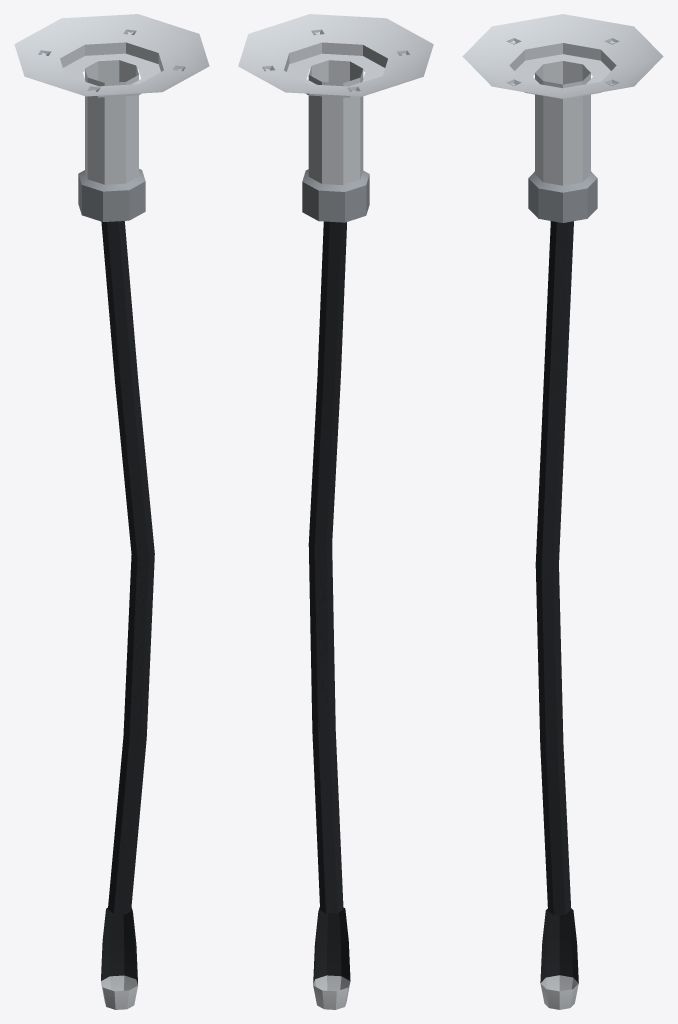
File: SEC_Ceiling_Cable_Drop.fbx
3 views of the same model, side by side, from view 1: azimuth 30°, elevation 25°; view 2: azimuth 150°, elevation 25°; view 3: azimuth 270°, elevation 25° (orthographic).
Visible parts, largest first — view 1: Cable_Segment, Ceiling_Rosette, Drop_Pipe, Connector; view 2: Cable_Segment, Ceiling_Rosette, Drop_Pipe, Connector; view 3: Cable_Segment, Ceiling_Rosette, Drop_Pipe, Connector.
Part boxes in pixels (left/top/right/bottom): Cable_Segment: left=101, top=221, right=154, bottom=914; Ceiling_Rosette: left=14, top=14, right=209, bottom=97; Drop_Pipe: left=78, top=60, right=145, bottom=221; Connector: left=101, top=907, right=137, bottom=1009; Cable_Segment: left=308, top=221, right=346, bottom=913; Ceiling_Rosette: left=238, top=14, right=433, bottom=97; Drop_Pipe: left=302, top=60, right=369, bottom=222; Connector: left=313, top=907, right=350, bottom=1009; Cable_Segment: left=535, top=221, right=573, bottom=915; Ceiling_Rosette: left=462, top=14, right=663, bottom=99; Drop_Pipe: left=528, top=61, right=597, bottom=222; Connector: left=540, top=908, right=578, bottom=1009.
Size of the model in its own units: 9 by 46.6 by 9.
2 materials, 2 textured.
